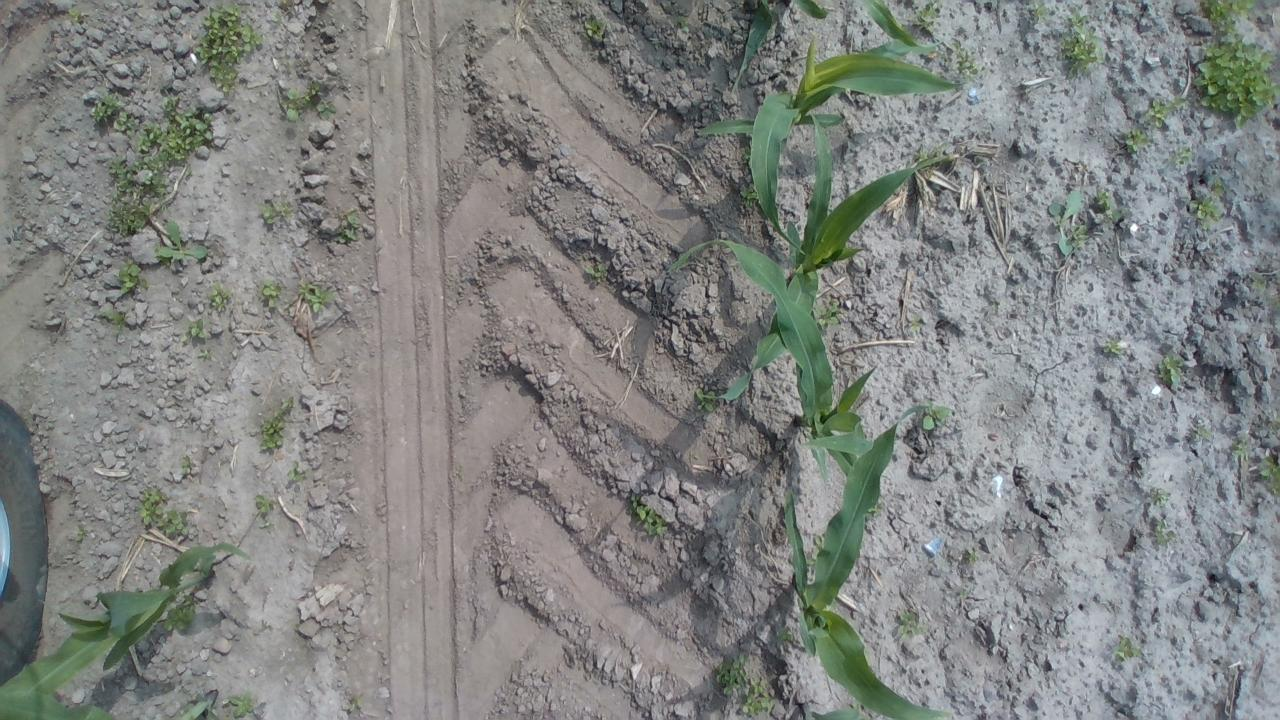Maize: (700, 112, 950, 404), (695, 38, 970, 254), (783, 405, 955, 720), (666, 239, 878, 484), (0, 542, 256, 696), (860, 0, 950, 48), (732, 3, 778, 94), (0, 696, 119, 720), (174, 689, 218, 720), (800, 703, 860, 720), (785, 0, 828, 19)
Weeds: (88, 90, 214, 236), (1193, 31, 1279, 131), (193, 3, 266, 100), (1058, 5, 1106, 82), (1048, 185, 1086, 256), (281, 78, 338, 124), (138, 488, 192, 536), (154, 216, 208, 262), (258, 392, 298, 450), (1200, 0, 1257, 38), (626, 492, 670, 538), (712, 650, 749, 694), (941, 36, 977, 80), (298, 276, 336, 316), (742, 672, 775, 718), (1146, 94, 1186, 130), (1186, 194, 1222, 230), (118, 256, 150, 296), (914, 0, 944, 39), (258, 197, 294, 229), (812, 294, 844, 330), (922, 396, 954, 432), (1097, 184, 1124, 226), (334, 206, 363, 244), (90, 308, 126, 338), (1158, 354, 1186, 392), (1113, 633, 1145, 666), (221, 690, 257, 718), (1257, 454, 1280, 496), (163, 601, 194, 632), (897, 612, 928, 640), (258, 276, 284, 308), (179, 317, 207, 346), (1122, 127, 1150, 156), (208, 280, 232, 313), (1150, 520, 1176, 546), (284, 458, 310, 483), (1144, 486, 1172, 507), (580, 16, 606, 38), (1029, 0, 1051, 25), (252, 494, 278, 515), (737, 182, 757, 209), (1167, 143, 1191, 165), (772, 623, 796, 645), (694, 388, 714, 413), (808, 532, 822, 566), (1248, 270, 1268, 293), (1230, 440, 1250, 463), (906, 312, 926, 334), (180, 453, 198, 477), (583, 261, 604, 281), (1103, 338, 1124, 356), (348, 694, 365, 714), (1208, 180, 1226, 198), (452, 461, 466, 483), (962, 545, 978, 564), (196, 346, 214, 362), (1195, 422, 1211, 440), (988, 296, 1002, 316), (741, 144, 751, 170), (258, 520, 276, 534), (868, 505, 884, 518), (76, 523, 86, 542), (679, 14, 690, 30), (67, 8, 79, 22), (1266, 418, 1280, 430), (271, 12, 286, 23), (958, 588, 971, 600), (689, 450, 700, 463), (1270, 296, 1280, 307), (283, 60, 290, 68), (164, 686, 172, 692)
